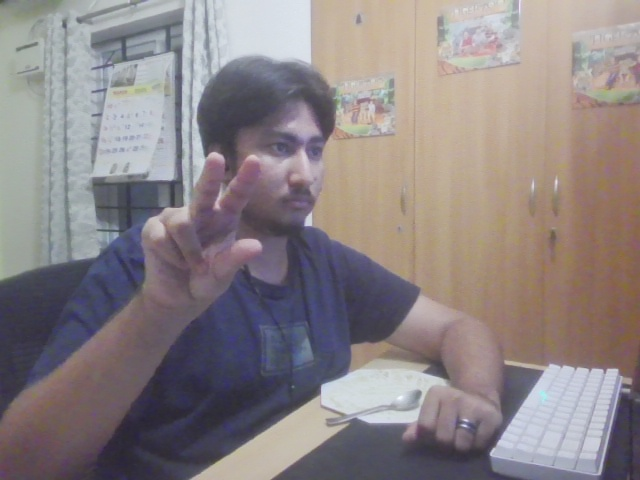no: (136, 151, 265, 312)
